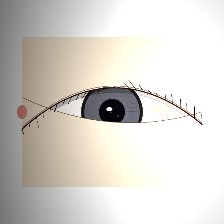pinguecula_lesion: (142, 93, 180, 124)
